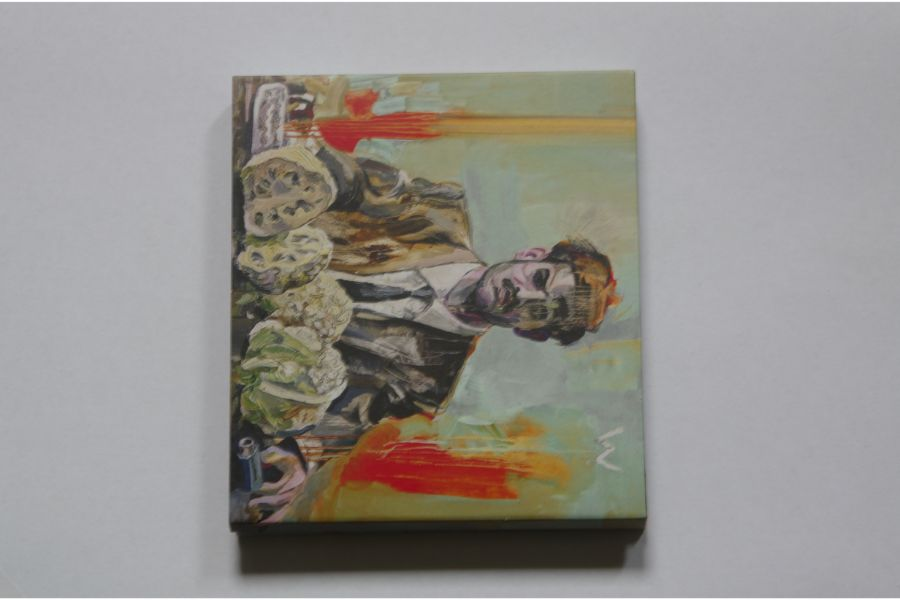album: (227, 71, 642, 535)
